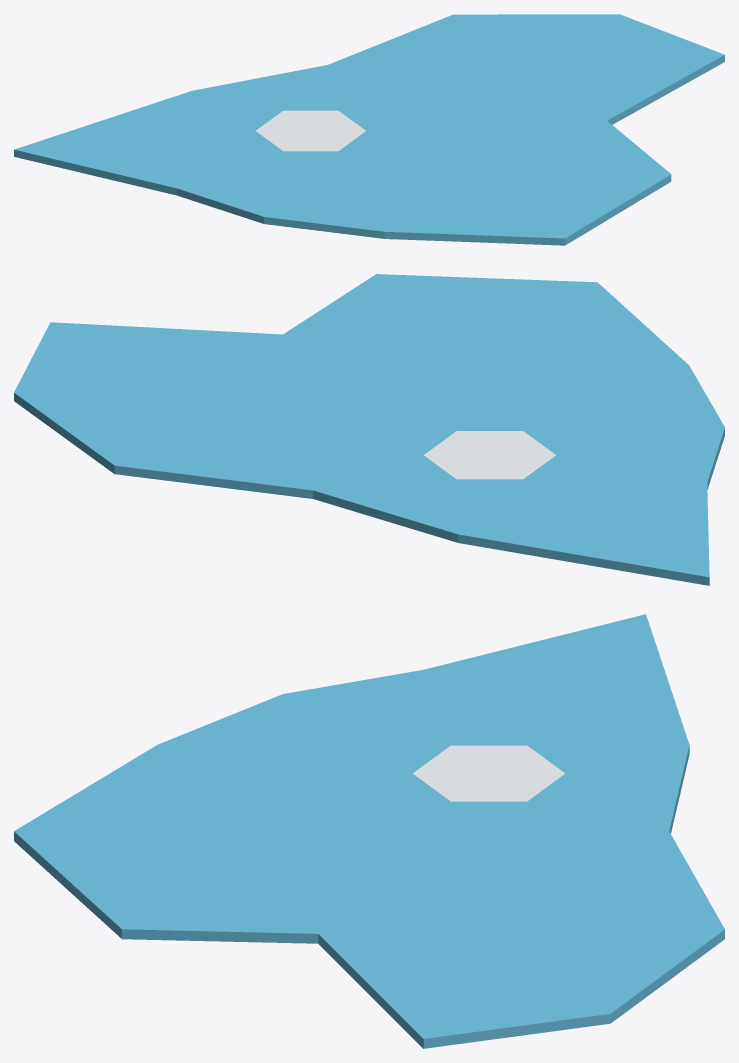
The model's file is CM_Event_Spill.fbx.
The picture shows the model from 3 angles, top to bottom: view 1: azimuth 30°, elevation 25°; view 2: azimuth 150°, elevation 25°; view 3: azimuth 270°, elevation 25°; orthographic projection. The views are drawn at different scales.
Visible parts, largest first — view 1: Body; view 2: Body; view 3: Body.
Boxes of the visible parts, box(x1,y1,x2,y2) form: Body: box(14, 14, 724, 245); Body: box(14, 274, 724, 585); Body: box(14, 614, 724, 1048).
Size of the model in its own units: 4.6 by 3.26 by 0.062.
1 material, 1 textured.
